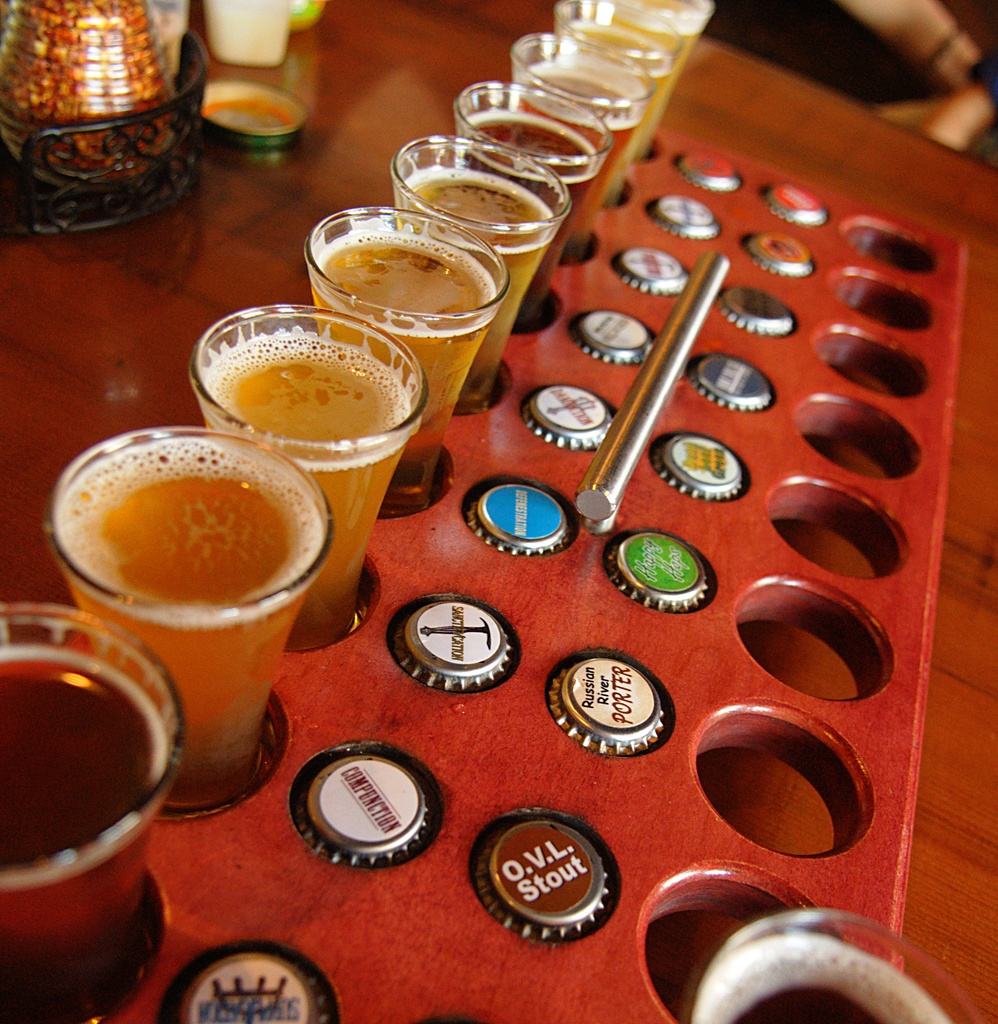Beer: (0, 4, 716, 900)
